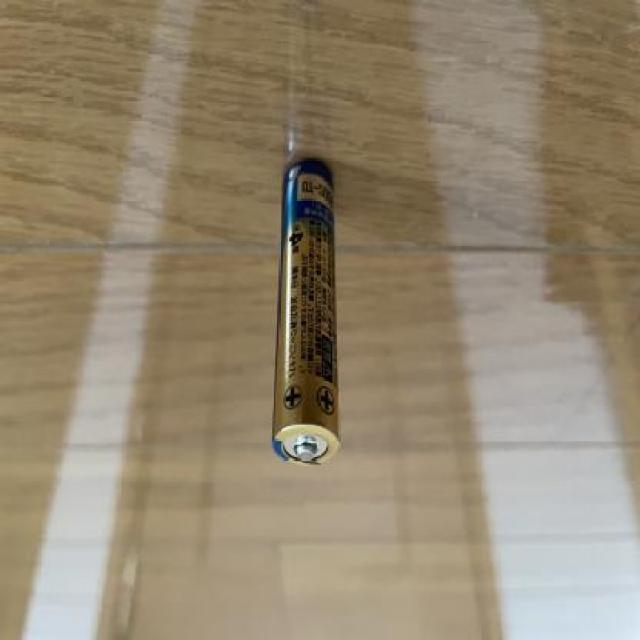AAA: (271, 157, 342, 471)
